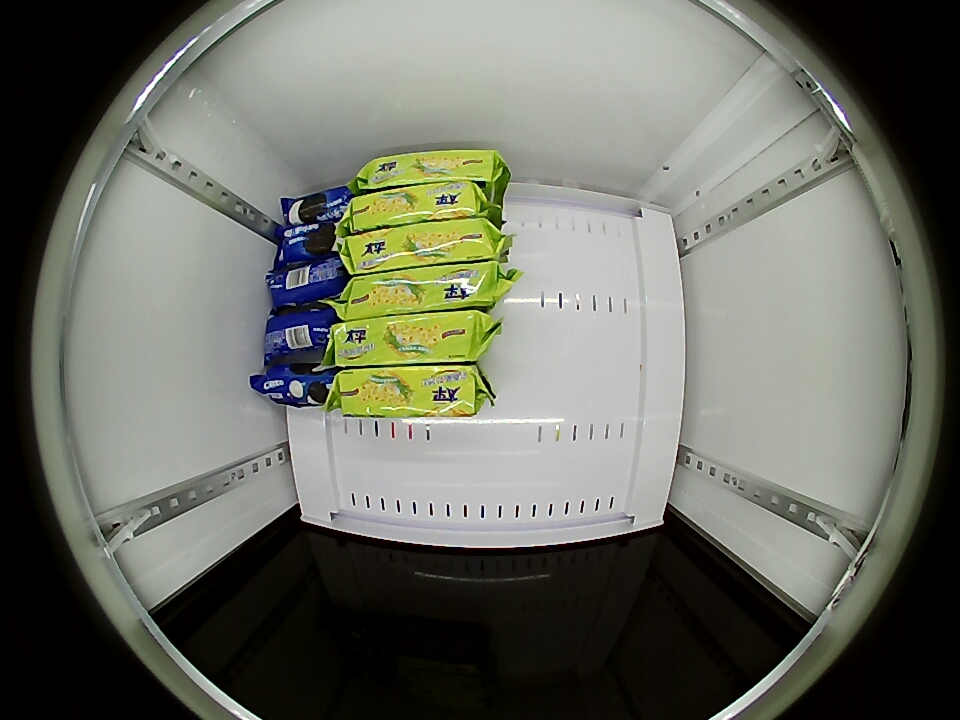aoliao: (263, 309, 335, 357), (268, 258, 340, 306), (259, 365, 332, 409), (280, 187, 351, 232), (277, 226, 348, 263)
taipingshuda: (331, 312, 488, 366), (340, 219, 496, 273), (341, 264, 498, 317), (332, 366, 486, 419), (347, 183, 489, 230), (354, 149, 507, 192)
